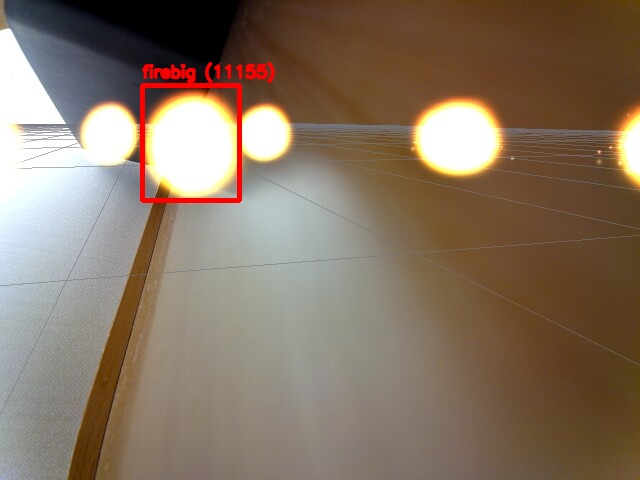firebig: (142, 85, 239, 200)
